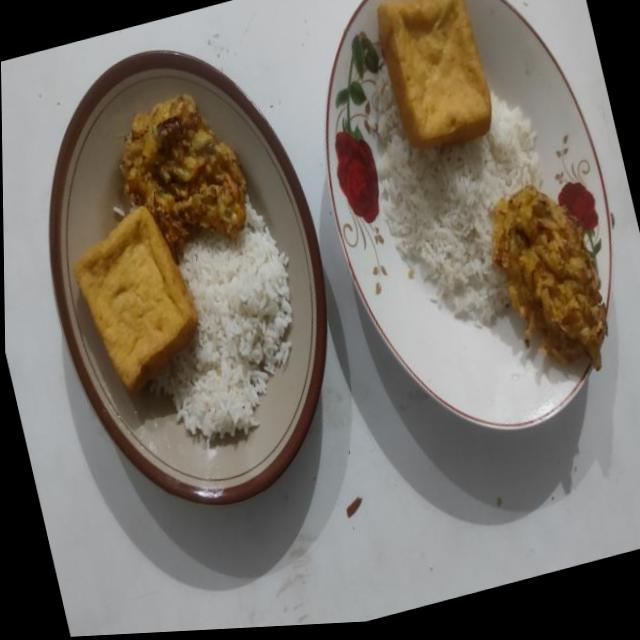nasi_putih: (376, 72, 542, 326), (151, 202, 292, 438)
tahu_goreng: (73, 206, 197, 388), (376, 0, 491, 147)
